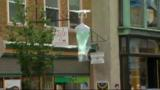UAV: (68, 10, 91, 19)
